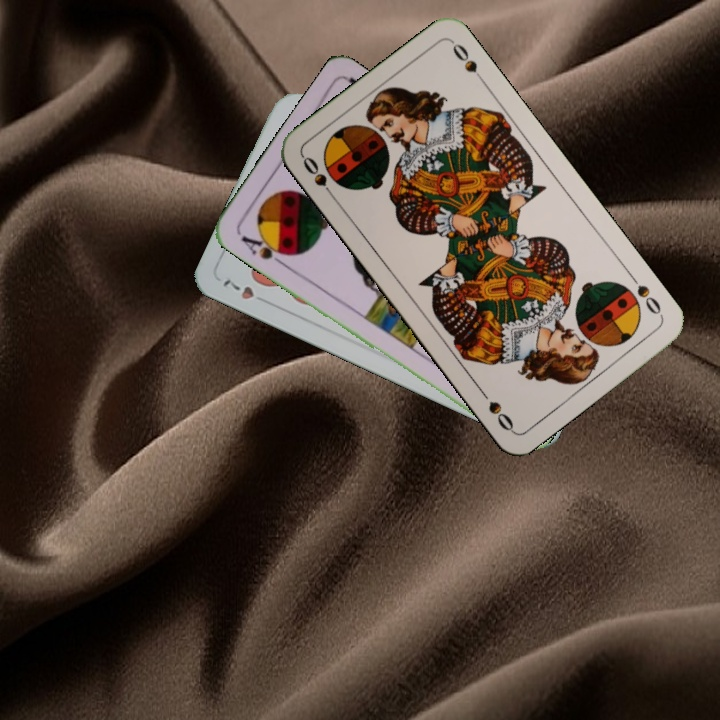H7: (218, 274, 257, 302)
SA: (237, 230, 293, 269)
SO: (624, 269, 666, 319), (298, 152, 339, 203)
